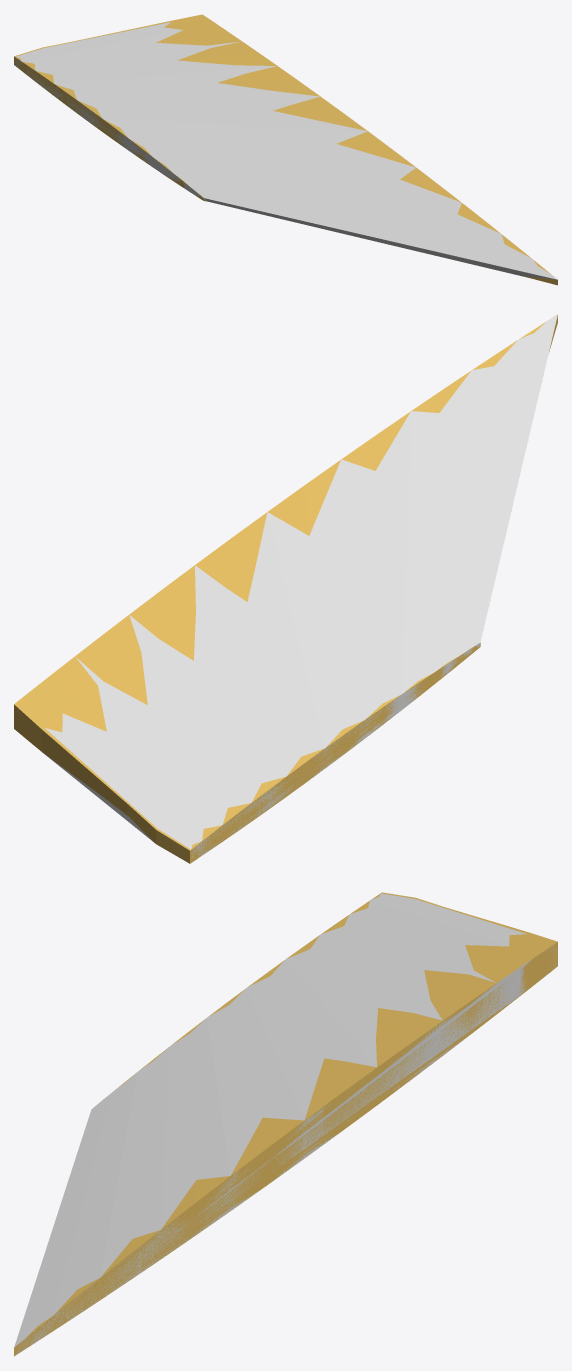
The model's file is fuel_strake_R.fbx.
The picture shows the model from 3 angles, top to bottom: view 1: azimuth 30°, elevation 25°; view 2: azimuth 150°, elevation 25°; view 3: azimuth 330°, elevation 25°; orthographic projection. The views are drawn at different scales.
Visible parts, largest first — view 1: fuel_strake_R_colmesh0, fuel_strake_R; view 2: fuel_strake_R_colmesh0, fuel_strake_R; view 3: fuel_strake_R_colmesh0, fuel_strake_R.
Part boxes in pixels (x1=…): fuel_strake_R_colmesh0: x1=14, y1=22, x2=557, y2=279; fuel_strake_R: x1=14, y1=14, x2=557, y2=285; fuel_strake_R_colmesh0: x1=45, y1=314, x2=557, y2=858; fuel_strake_R: x1=14, y1=315, x2=557, y2=863; fuel_strake_R_colmesh0: x1=14, y1=893, x2=557, y2=1353; fuel_strake_R: x1=14, y1=892, x2=557, y2=1356.
Size of what is drawn, in the model's own units: 0.88 by 0.262 by 3.94.
